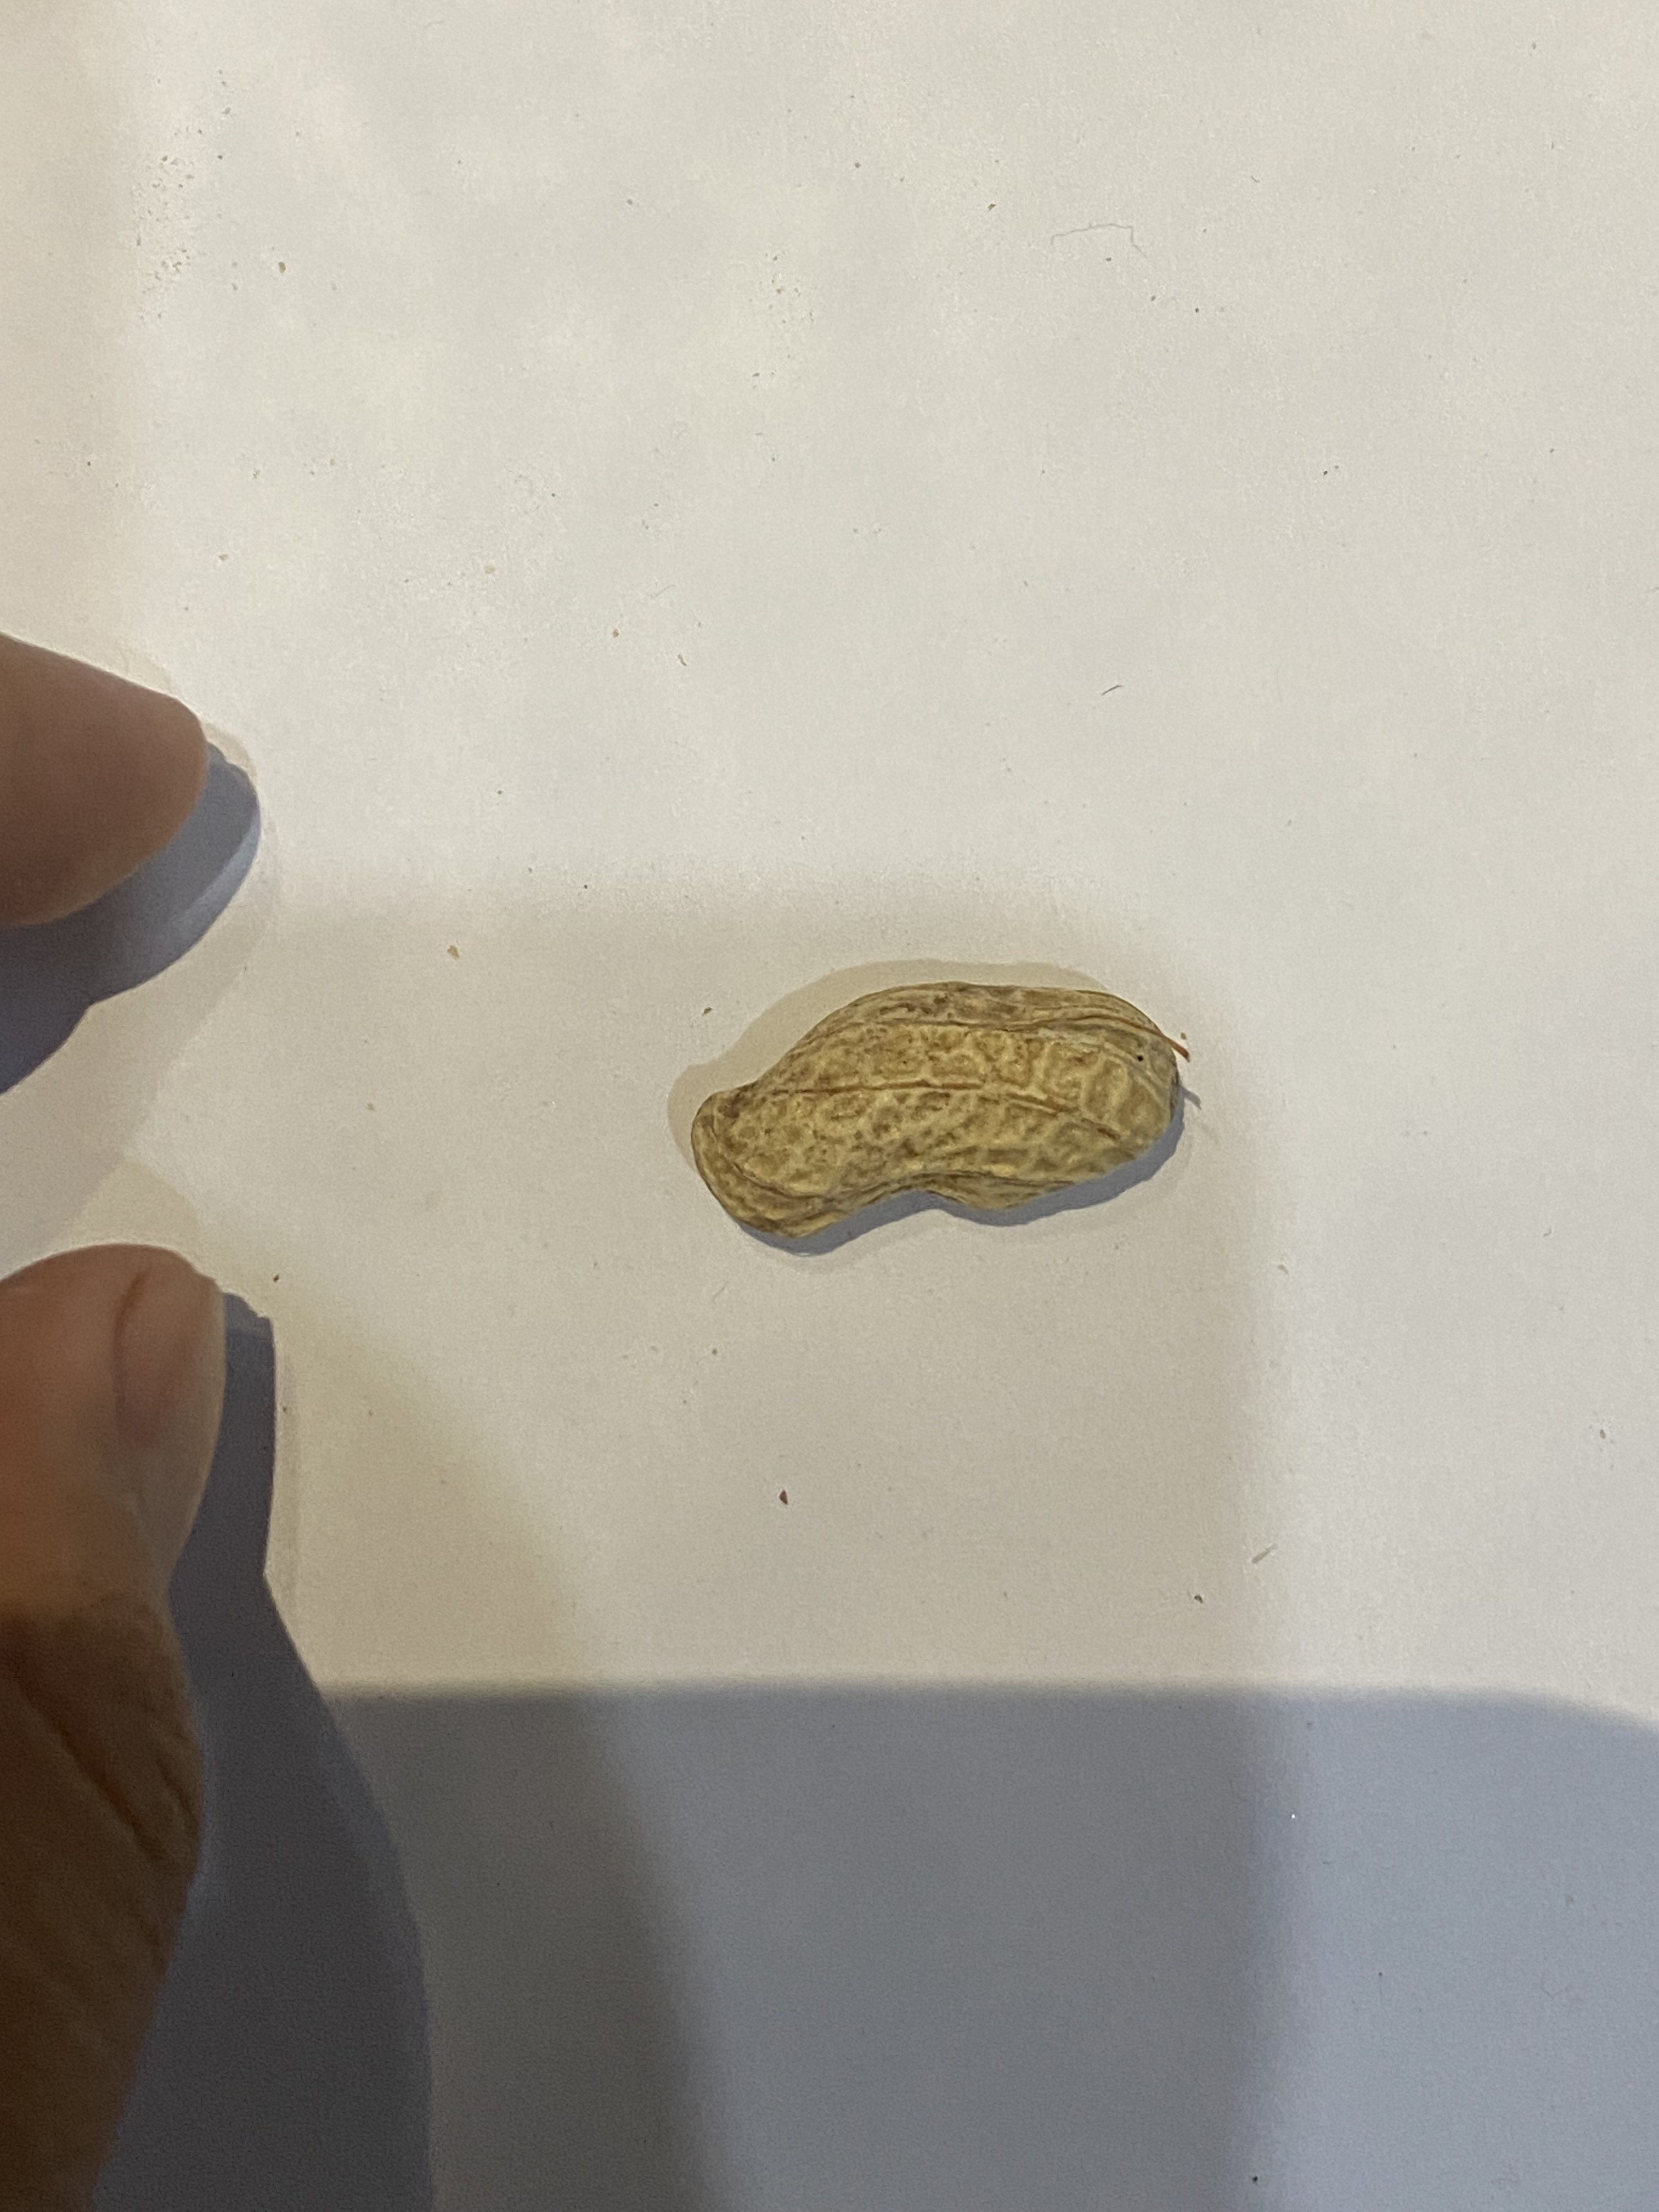kacang2: (673, 981, 1222, 1240)
